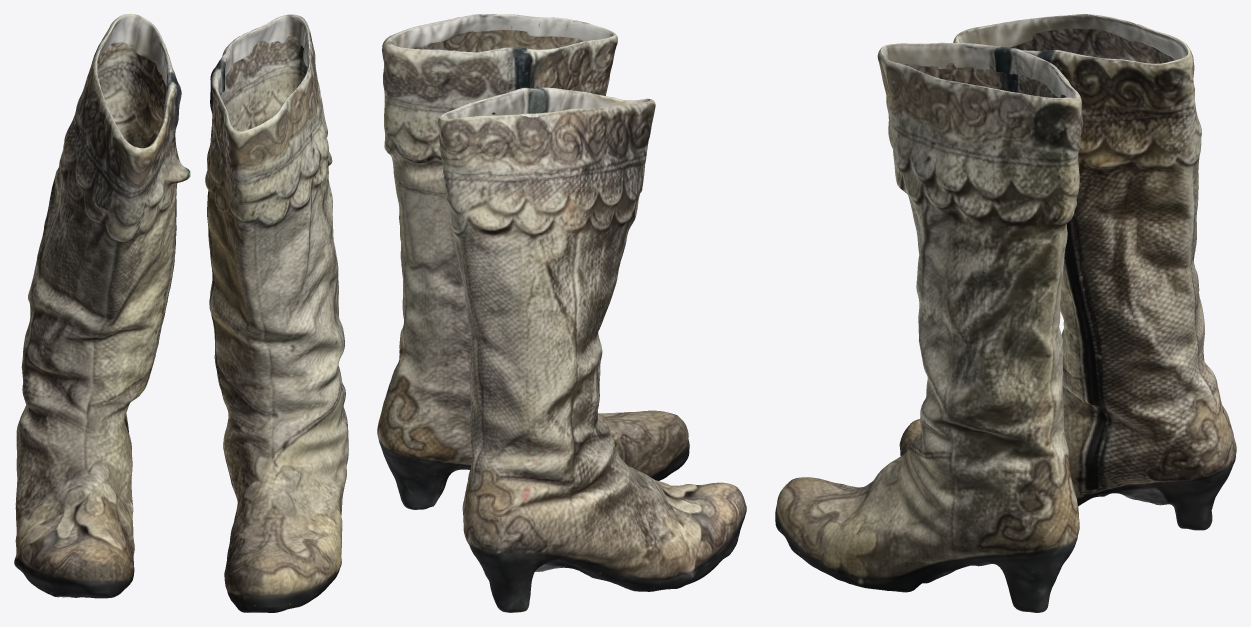
Rendered from 赫哲族鱼皮制作技艺.glb.
3 renders of one model, left to right at view 1: azimuth 30°, elevation 25°; view 2: azimuth 150°, elevation 25°; view 3: azimuth 270°, elevation 25°, orthographic. The views are drawn at different scales.
Visible parts, largest first — view 1: Object_4, Object_3, Object_2, Object_5; view 2: Object_3, Object_4, Object_2, Object_5; view 3: Object_4, Object_2, Object_3, Object_5.
Part boxes in pixels (bbox=[...]): Object_4: bbox=[205, 14, 348, 612]; Object_3: bbox=[14, 14, 335, 598]; Object_2: bbox=[14, 18, 189, 595]; Object_5: bbox=[23, 41, 345, 611]; Object_3: bbox=[403, 37, 746, 612]; Object_4: bbox=[377, 14, 689, 509]; Object_2: bbox=[438, 88, 732, 611]; Object_5: bbox=[394, 34, 684, 612]; Object_4: bbox=[775, 42, 1083, 612]; Object_2: bbox=[958, 14, 1223, 529]; Object_3: bbox=[882, 14, 1236, 530]; Object_5: bbox=[775, 36, 1133, 603].
Size of the model in its own units: 13.11 by 19.22 by 15.16.
1 material, 1 textured.
